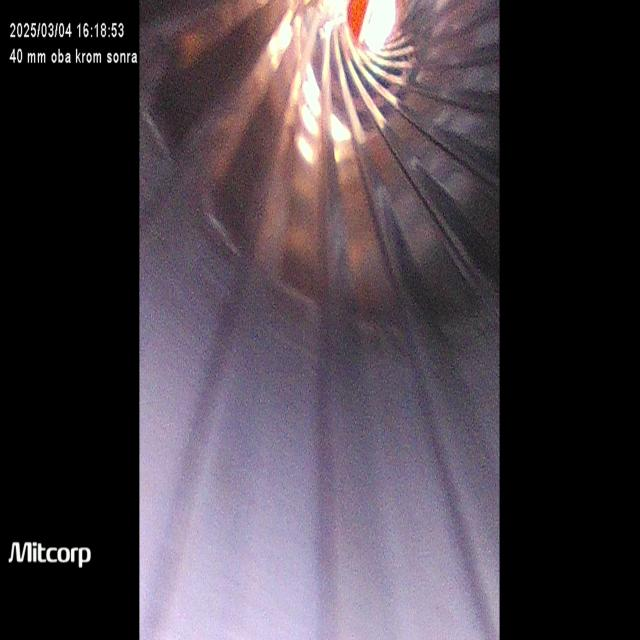hata_8.2: (211, 58, 399, 290)
